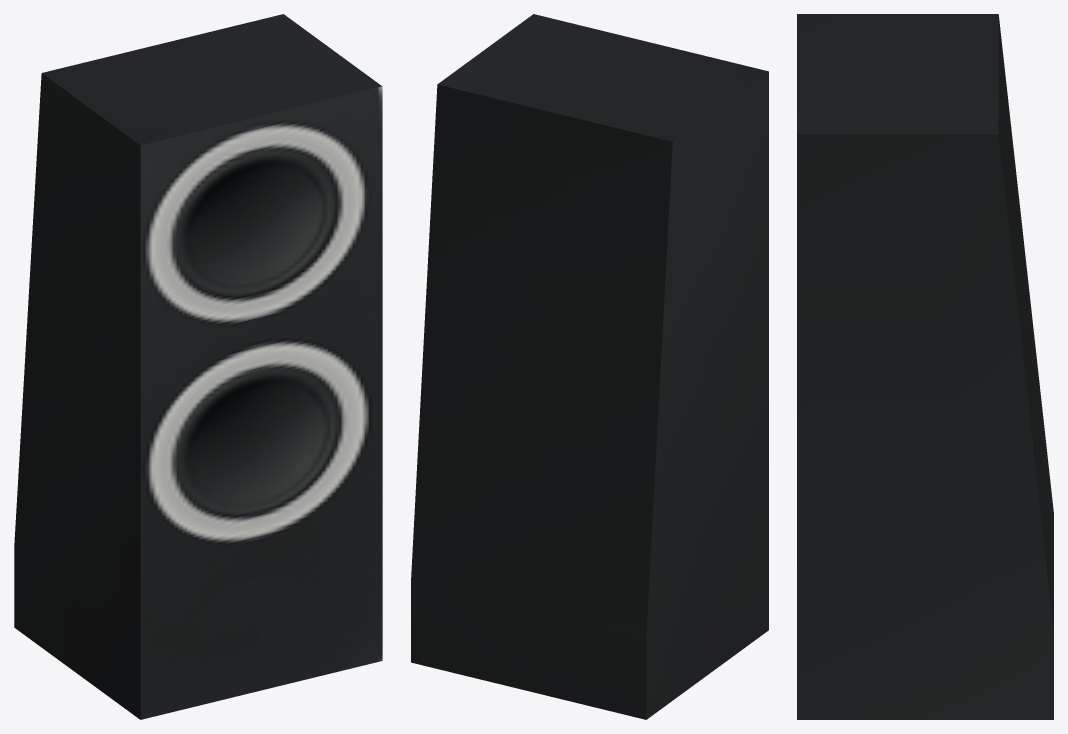
The model's file is Speaker2.FBX.
3 renders of one model, left to right at view 1: azimuth 30°, elevation 25°; view 2: azimuth 150°, elevation 25°; view 3: azimuth 270°, elevation 25°, orthographic. The views are drawn at different scales.
Parts seen in each view (by area): view 1: Speaker2; view 2: Speaker2; view 3: Speaker2.
Boxes of the visible parts, x1,y1,x2,y2 form: Speaker2: (14,14,382,719); Speaker2: (411,14,768,719); Speaker2: (797,14,1053,719).
Bounding box in the file's own units: 2.74 × 6.21 × 2.47.
